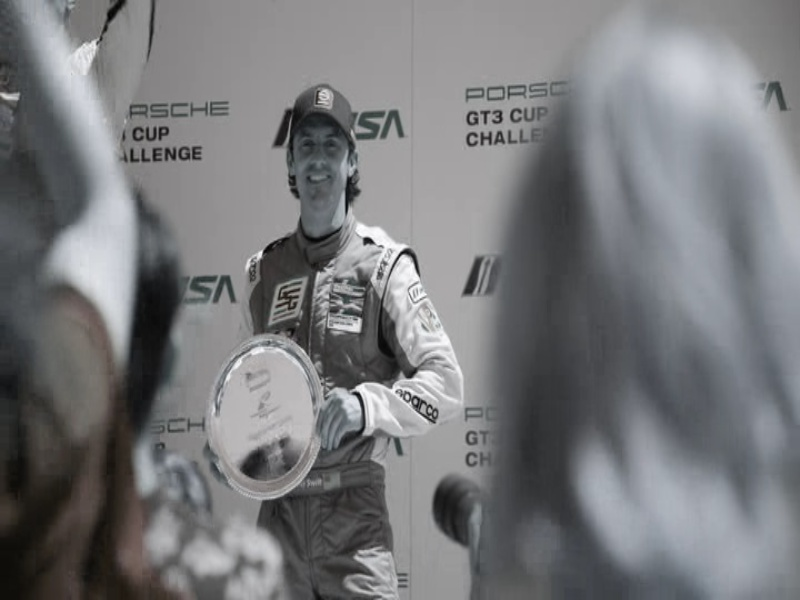TsisyArotava: (272, 92, 371, 227)
